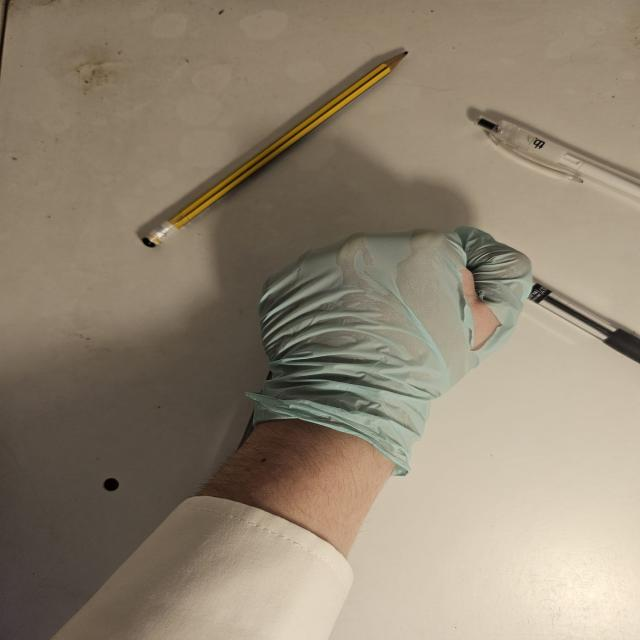gloves_damaged: (240, 224, 540, 476)
